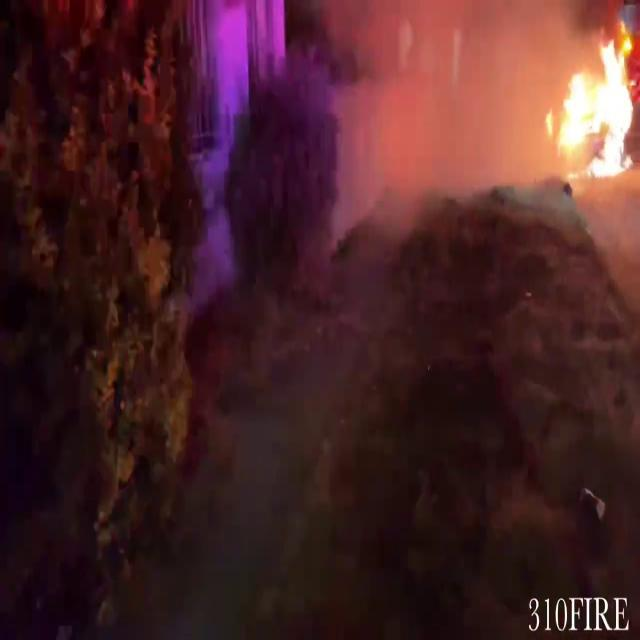Fire: (546, 20, 640, 181)
Smoke: (304, 0, 571, 249)
